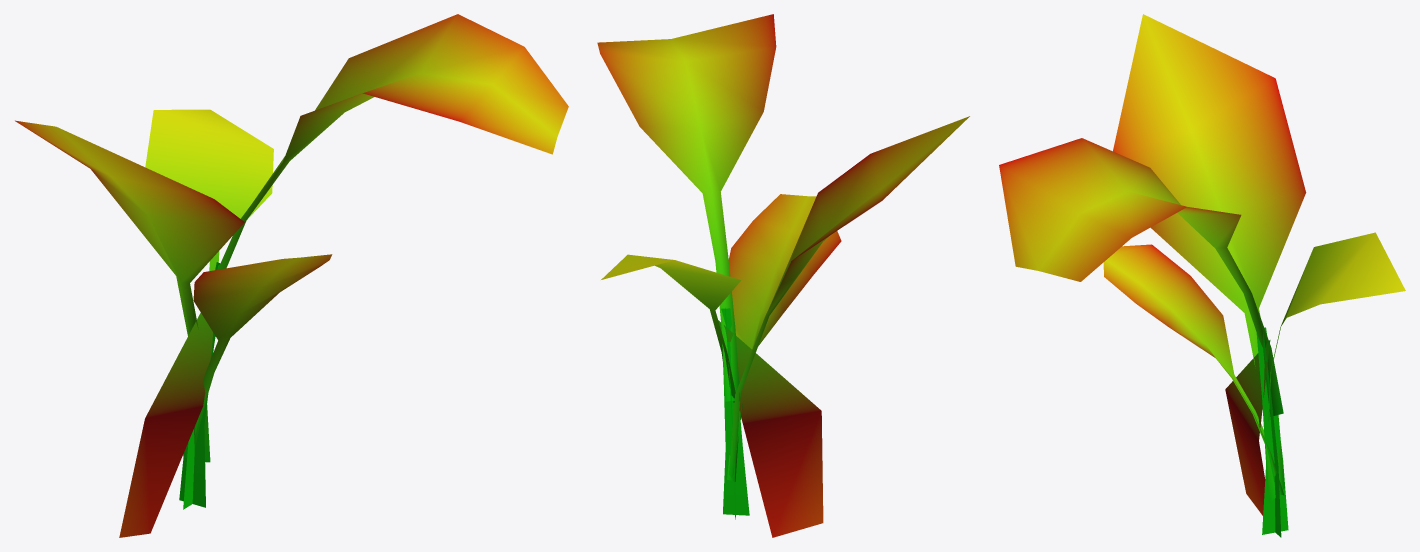
Rendered from var4.fbx.
The picture shows the model from 3 angles, left to right: view 1: azimuth 30°, elevation 25°; view 2: azimuth 150°, elevation 25°; view 3: azimuth 270°, elevation 25°; orthographic projection. The views are drawn at different scales.
Visible parts, largest first — view 1: Var4_LOD0; view 2: Var4_LOD0; view 3: Var4_LOD0.
Boxes of the visible parts, x1=… form: Var4_LOD0: x1=15, y1=14, x2=568, y2=537; Var4_LOD0: x1=597, y1=14, x2=969, y2=537; Var4_LOD0: x1=999, y1=14, x2=1405, y2=537.
Size of what is drawn, in the model's own units: 65.28 by 65.61 by 54.54.
